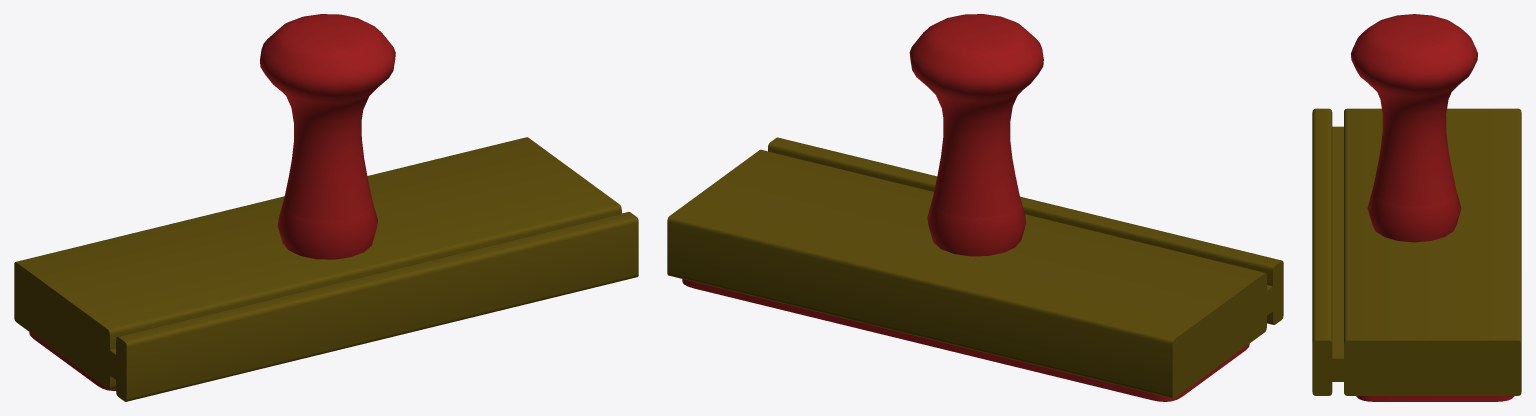
File: DeniedStamp.FBX
The picture shows the model from 3 angles, left to right: view 1: azimuth 30°, elevation 25°; view 2: azimuth 150°, elevation 25°; view 3: azimuth 270°, elevation 25°; orthographic projection. The views are drawn at different scales.
Visible parts, largest first — view 1: Box002, Line004; view 2: Box002, Line004, Line003; view 3: Box002, Line004, Line003.
Part boxes in pixels (bbox=[...]): Box002: bbox=[14, 137, 638, 401]; Line004: bbox=[260, 14, 395, 259]; Box002: bbox=[667, 137, 1283, 398]; Line004: bbox=[909, 14, 1043, 256]; Line003: bbox=[682, 279, 1249, 401]; Box002: bbox=[1312, 108, 1521, 395]; Line004: bbox=[1351, 14, 1477, 242]; Line003: bbox=[1356, 396, 1514, 401].
Size of the model in its own units: 132 by 68.77 by 50.18.
